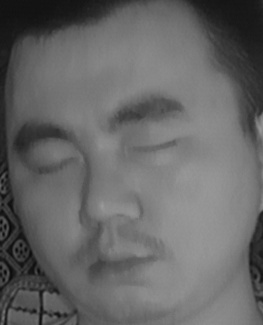blink: (128, 128, 179, 166), (29, 149, 80, 185)
mouth: (75, 236, 159, 287)
